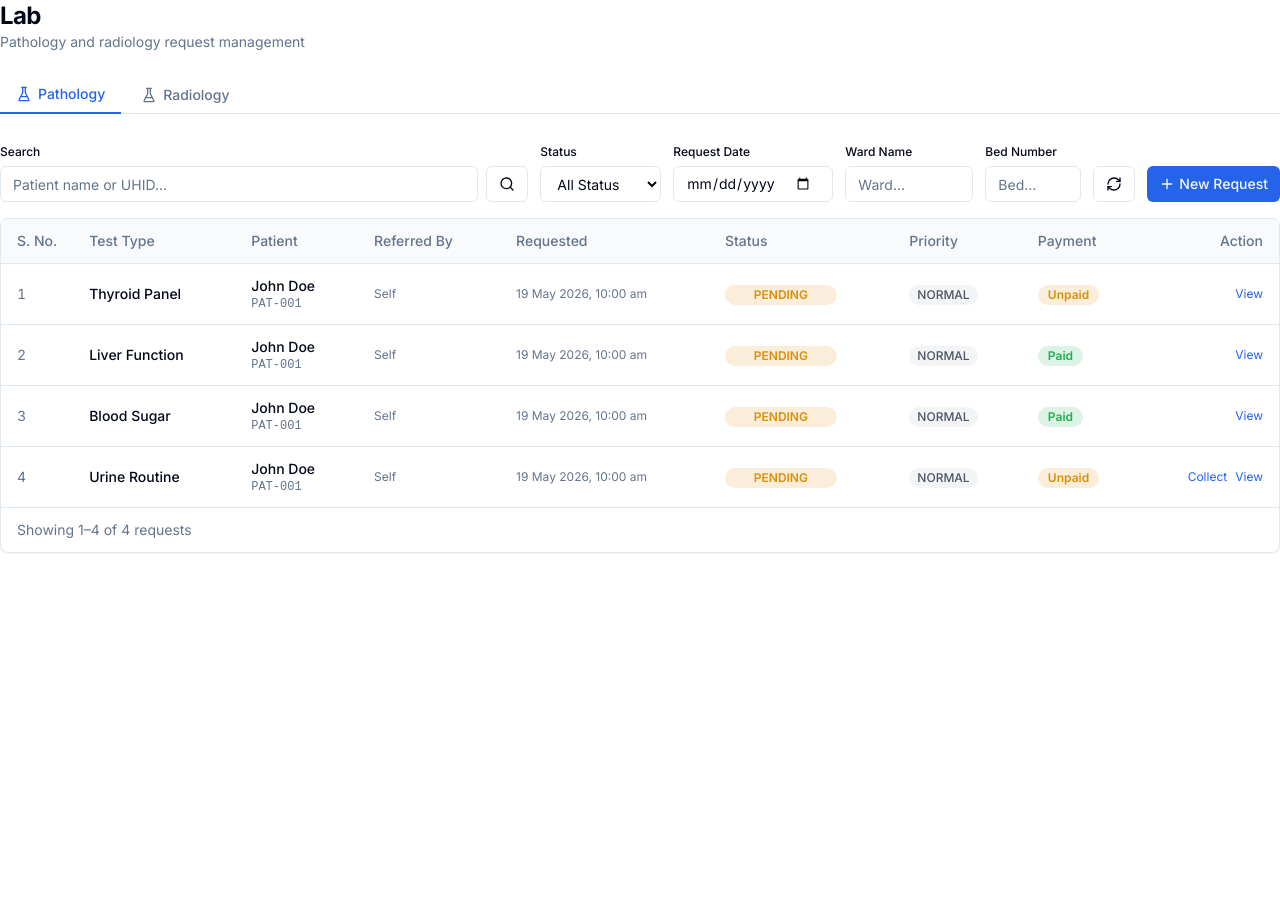
Test: Billing-created lab requests in the Lab section › a free (₹0) test shows as Paid · Free with a receipt
The width and height of the screenshot is (1280, 900).
Click the button "View" in the row of "Blood Sugar" at [1249, 416], box [1235,408,1263,424]
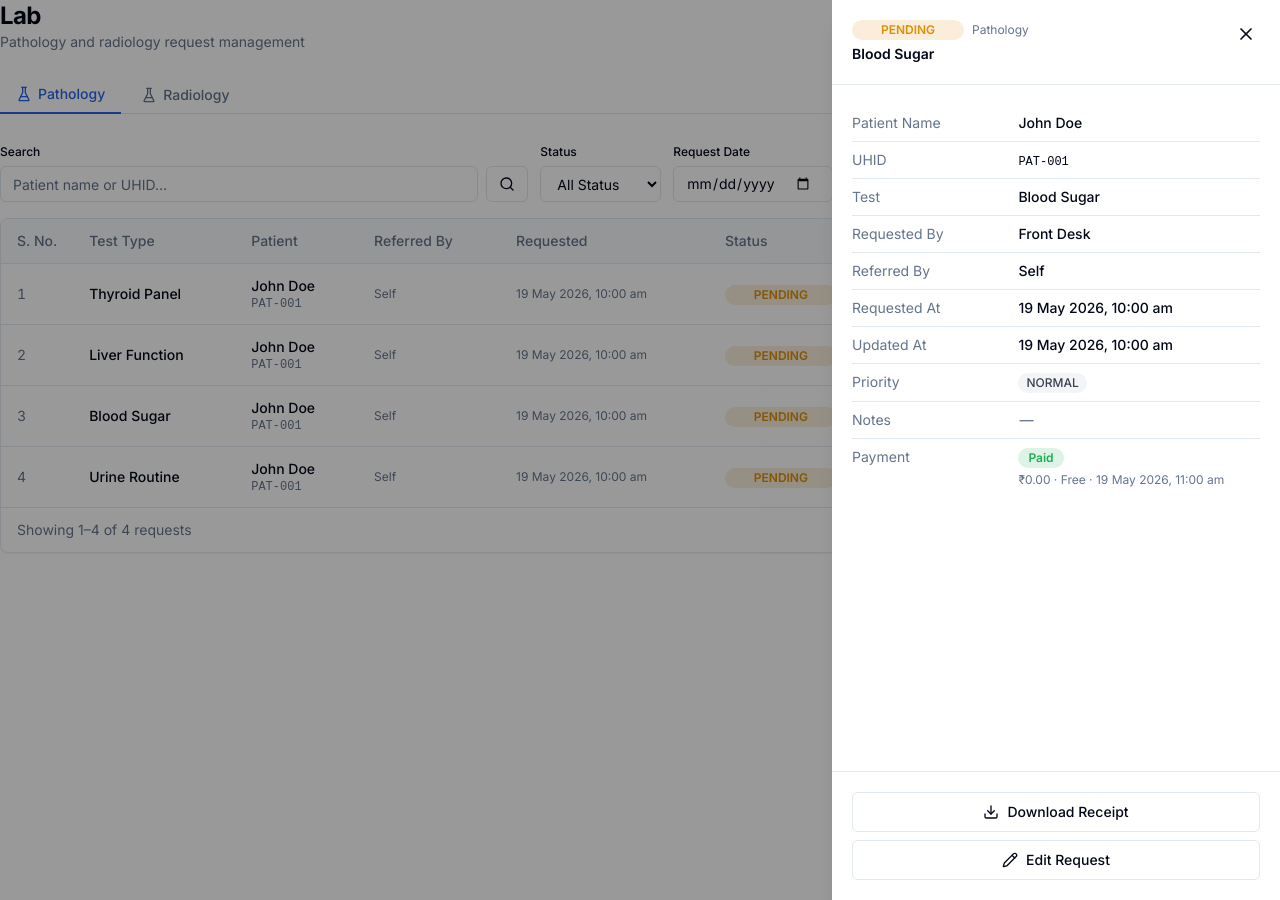
Result: the text "₹0.00 · Free · 19 May 2026, 11:00 am" is shown at [1018,472,1260,488]
Result: the button "Download Receipt" is shown at [852,792,1260,832]
